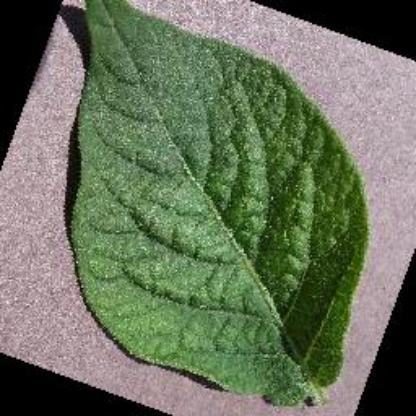Healthy-plant: (64, 0, 366, 414)
